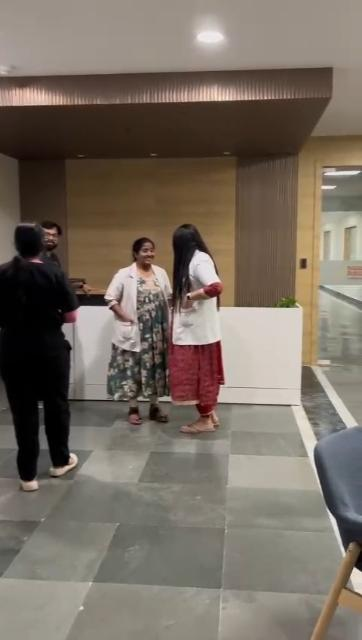floor: (3, 337, 362, 640)
moving-obj: (6, 226, 110, 494), (152, 230, 260, 450), (103, 235, 175, 432)
object: (304, 424, 362, 640)
